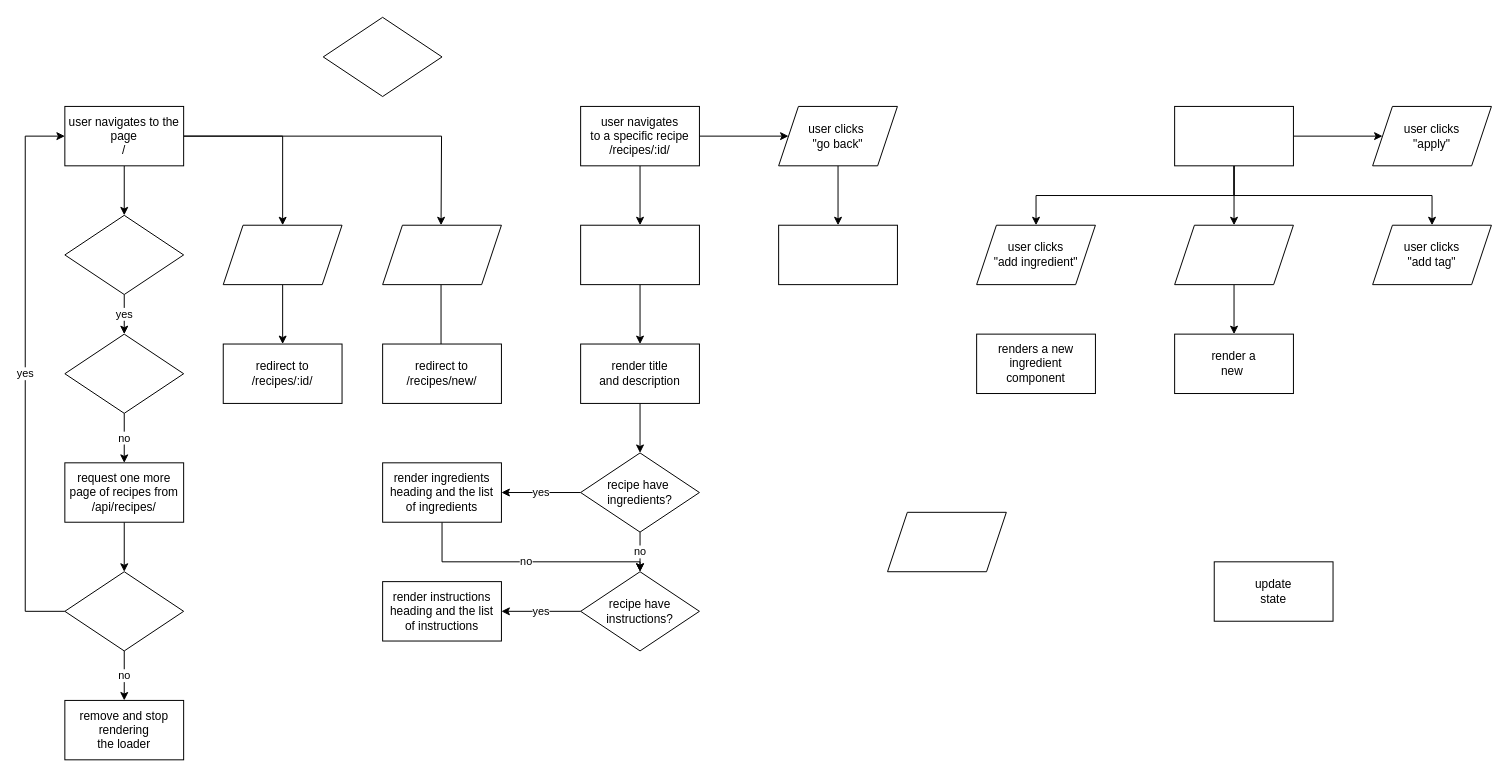
This 1509x777 diagram has some shape labels left out. Each missing label, with the centre of its shape:
is it requesting already?: (x=124, y=373)
is there more pages in the database?: (x=124, y=611)
loader is in viewport?: (x=124, y=254)
redirect to /: (x=837, y=254)
request the specific recipe from /api/recipes/:id/: (x=639, y=254)
user clicks "add instruction": (x=1233, y=254)
user clicks "create new recipe": (x=441, y=254)
user clicks a recipe: (x=282, y=254)
user navigates to create new recipe /recipes/new/: (x=1233, y=135)
